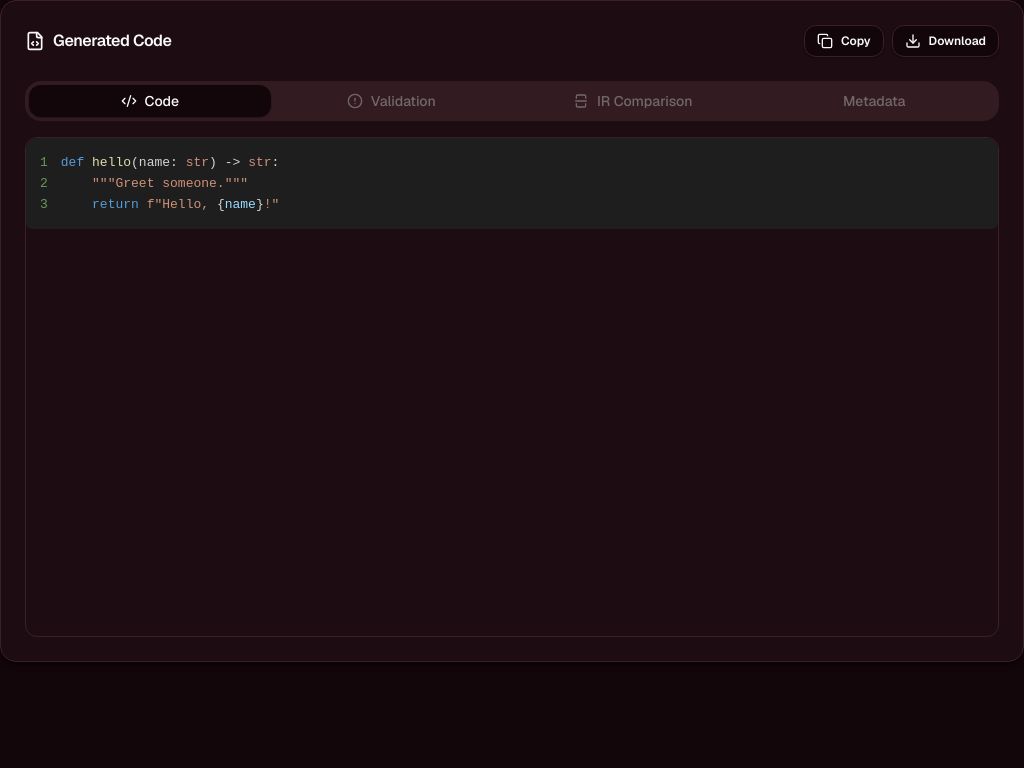
Test: CodePreview › copies code to clipboard when copy button is clicked
The image size is (1024, 768).
What coordinates should you click on to do the following:
click the button "Copy"
I would click on:
 (844, 41)
Its box is [804, 25, 884, 57].
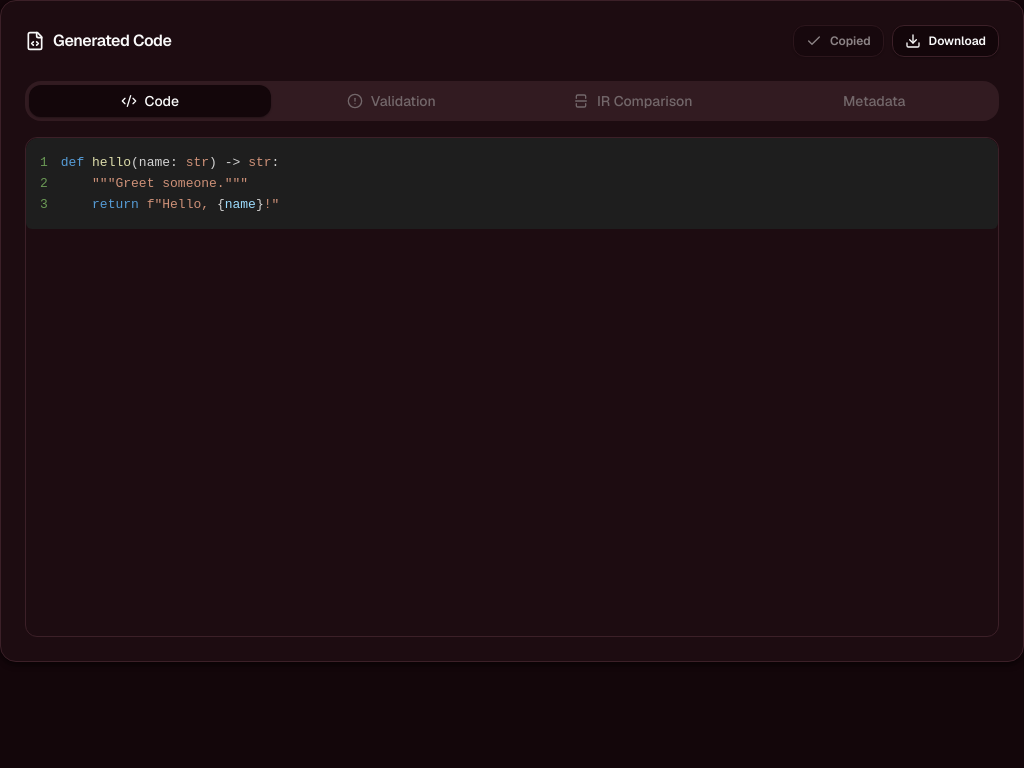
Check: the button "Copied" is shown, box [793, 25, 884, 57]
